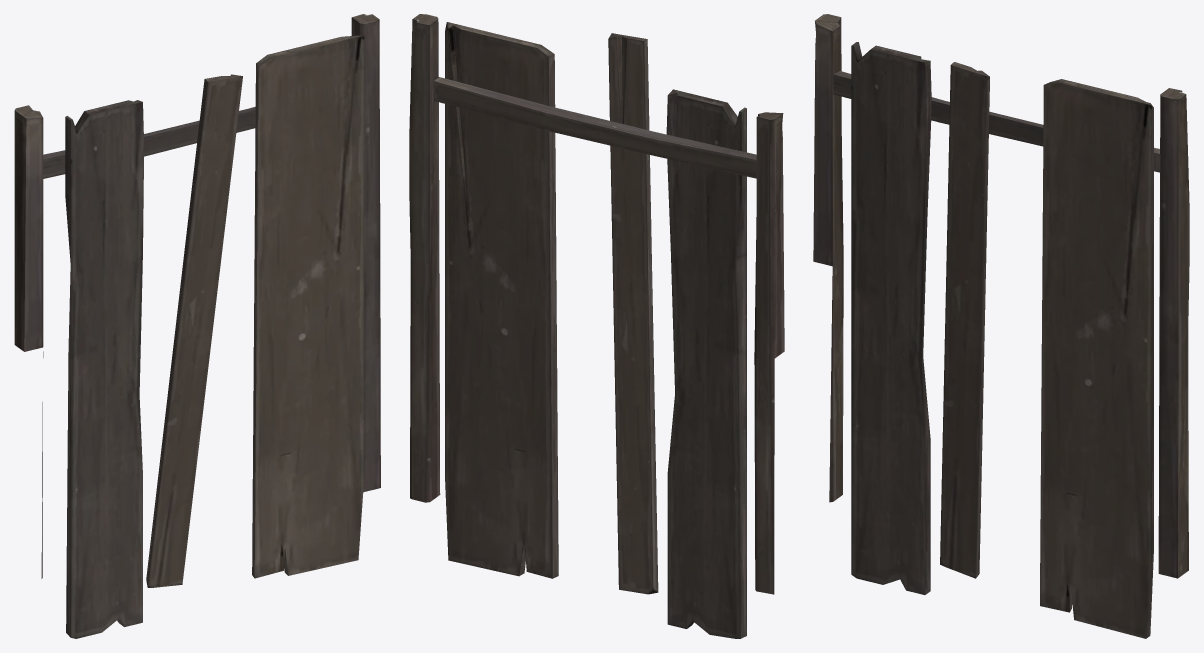
3 renders of one model, left to right at view 1: azimuth 30°, elevation 25°; view 2: azimuth 150°, elevation 25°; view 3: azimuth 330°, elevation 25°, orthographic. The views are drawn at different scales.
Visible parts, largest first — view 1: body0_model0_lod0_mesh0; view 2: body0_model0_lod0_mesh0; view 3: body0_model0_lod0_mesh0.
Boxes of the visible parts, bbox=[...] form: body0_model0_lod0_mesh0: bbox=[14, 14, 380, 638]; body0_model0_lod0_mesh0: bbox=[409, 14, 784, 638]; body0_model0_lod0_mesh0: bbox=[813, 14, 1189, 638].
Bounding box in the file's own units: 158 × 230 × 27.67.
1 material, 1 textured.
